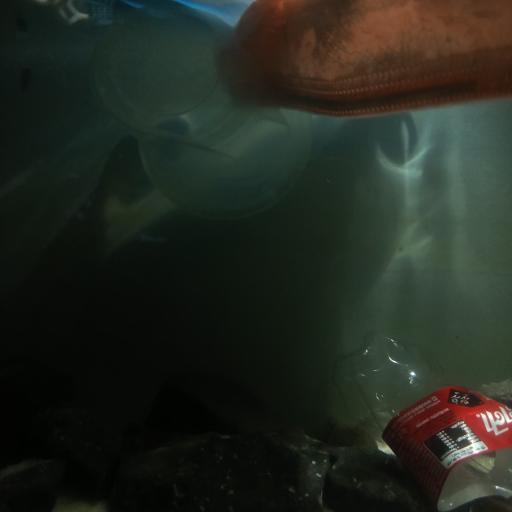mask: (226, 0, 512, 120), (53, 0, 227, 39)
plastic_bottle: (330, 323, 511, 512)
plastic_cup: (93, 21, 312, 223)
